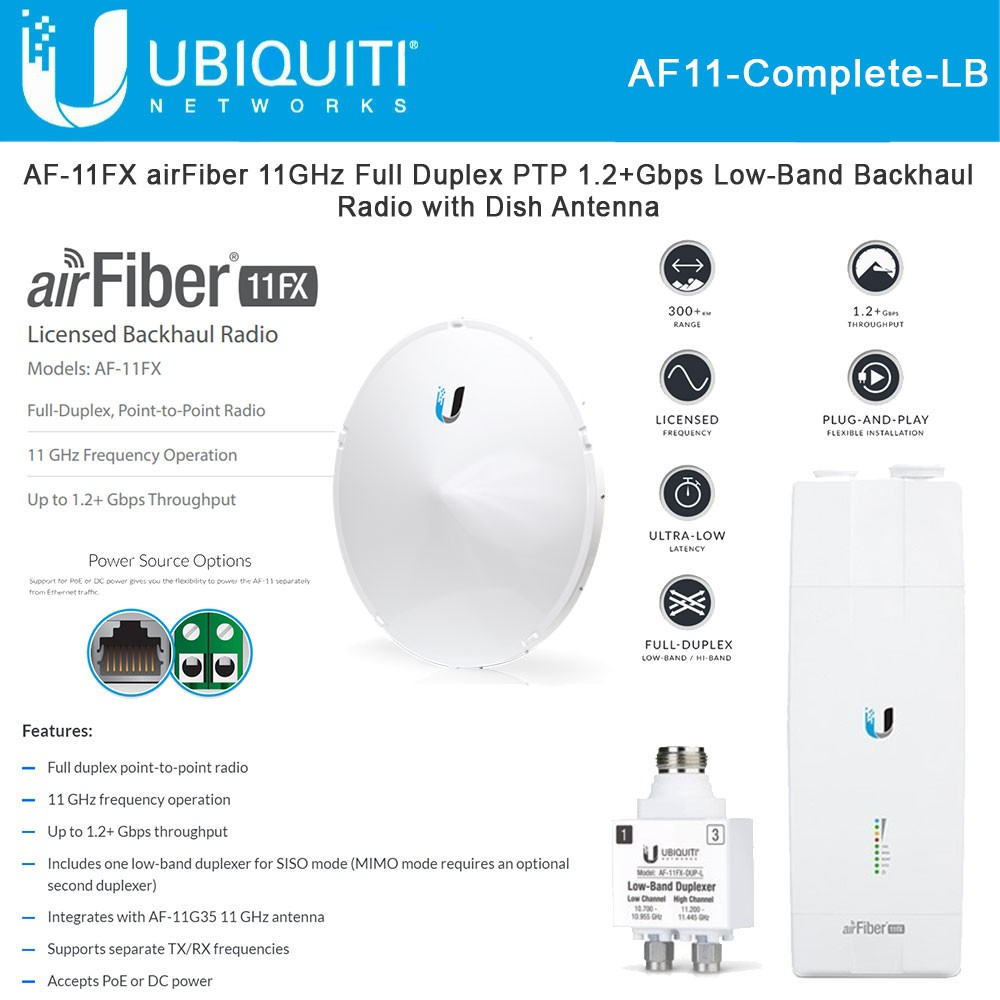ba: (313, 295, 628, 715)
